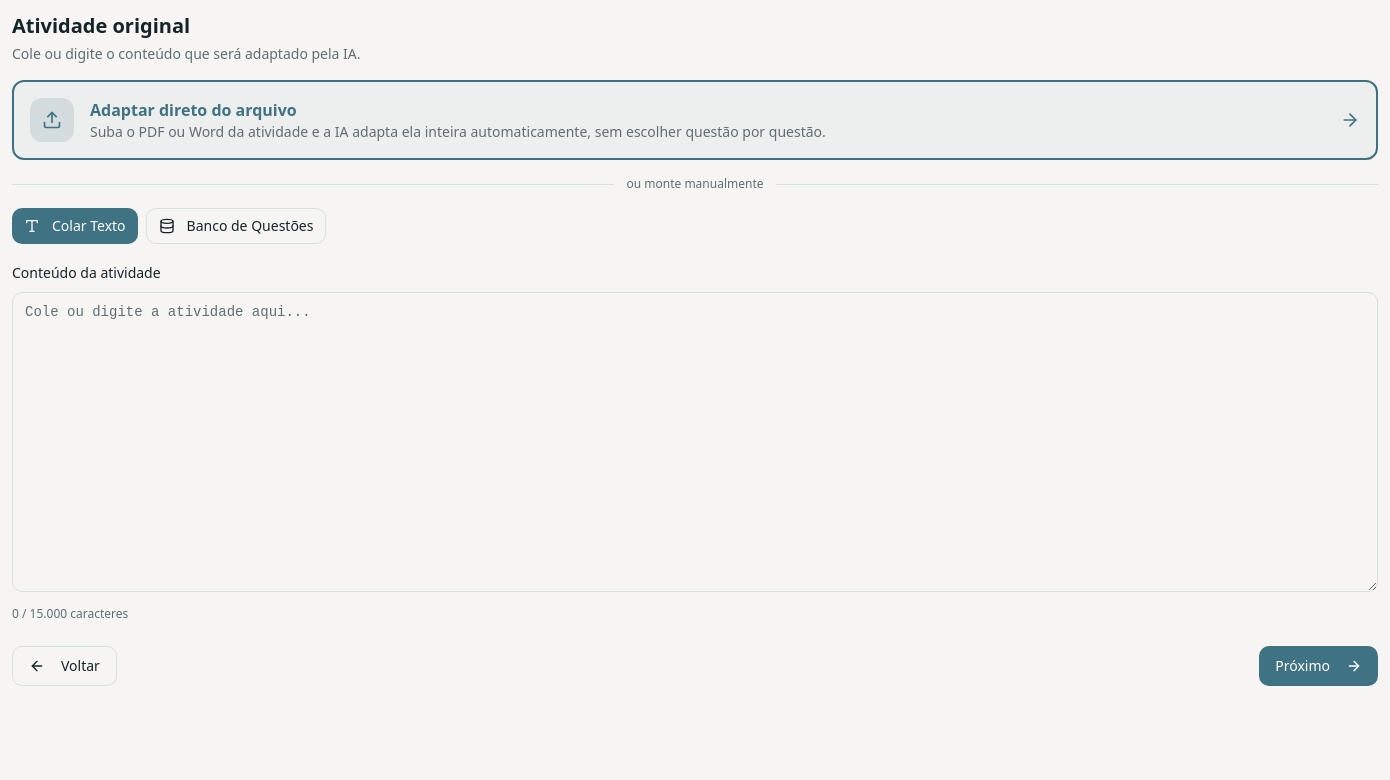
Test: StepActivityInput — Colar Texto tab › blocks Next when textarea is empty and shows an alert
Click the button "Próximo" at coordinates (1319, 666), box [1259,646,1378,686]
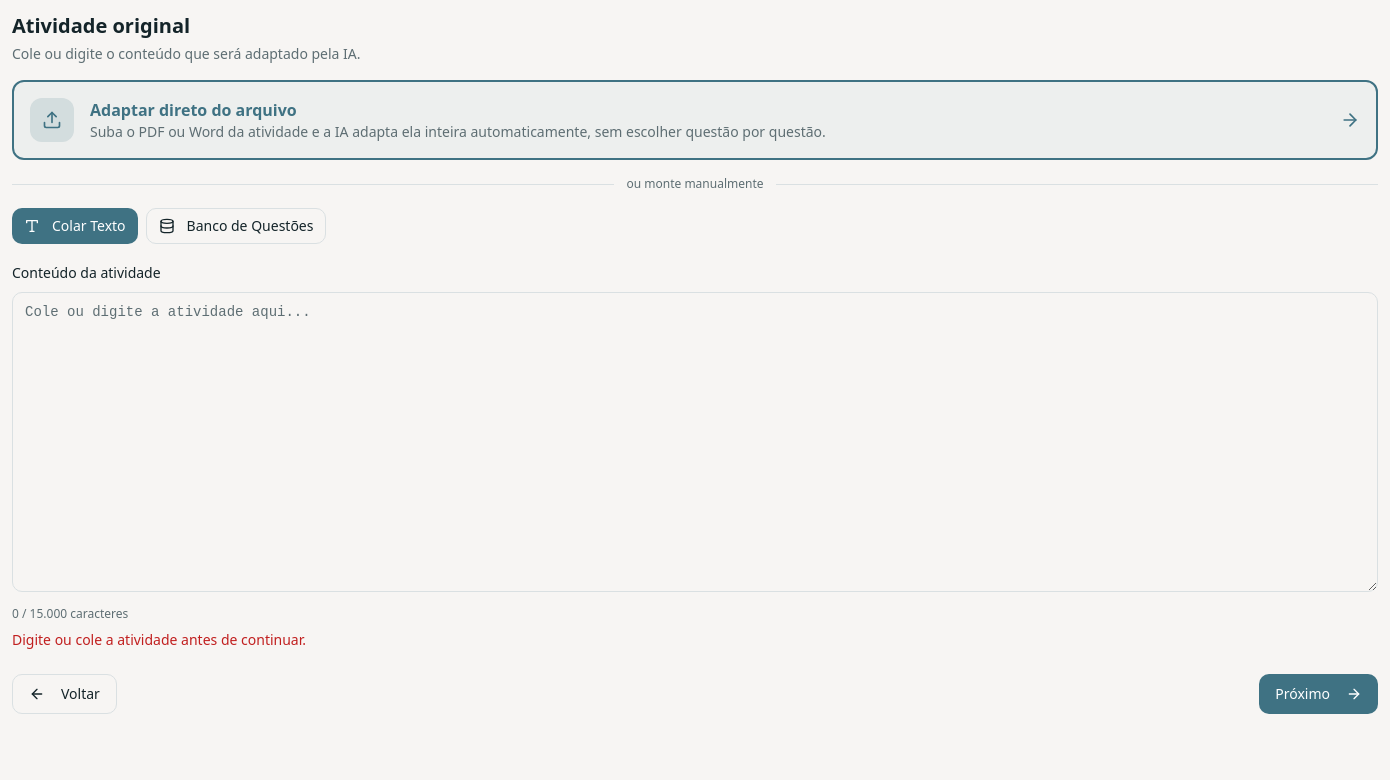
Now the message shows "Digite ou cole", box [12,630,306,649]
